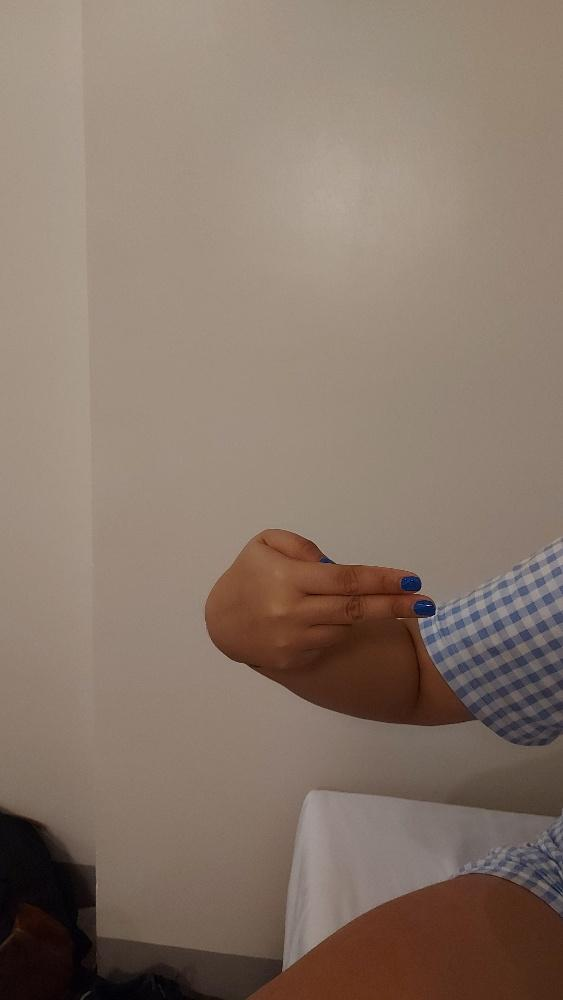h: (203, 525, 437, 670)
